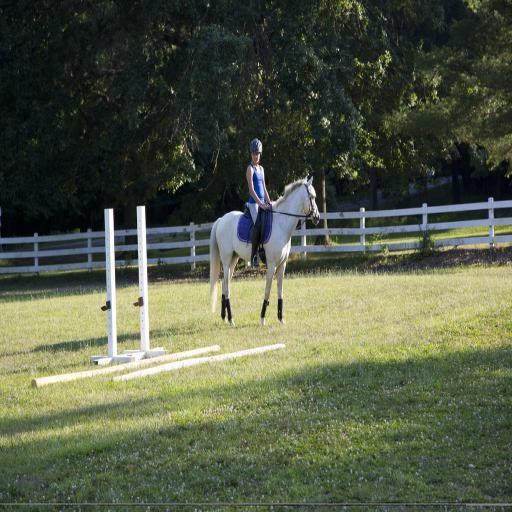horse: (209, 172, 321, 326)
